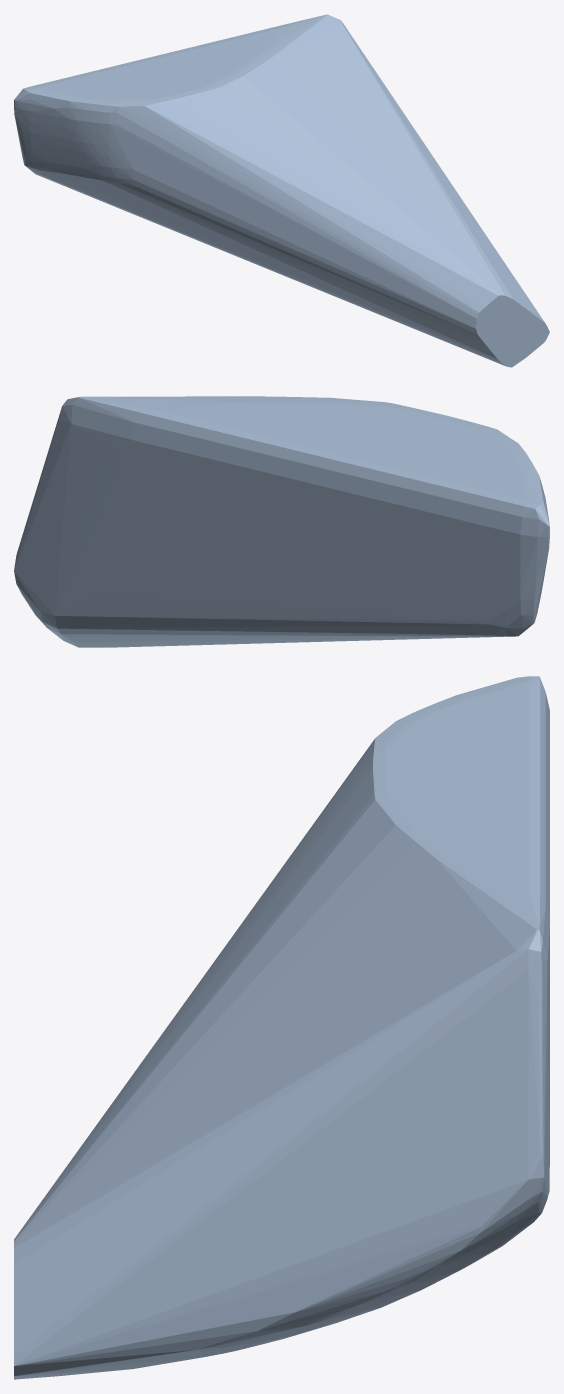
File: torso_link_part_6.obj
3 renders of one model, top to bottom at view 1: azimuth 30°, elevation 25°; view 2: azimuth 150°, elevation 25°; view 3: azimuth 270°, elevation 25°, orthographic. The views are drawn at different scales.
Size of the model in its own units: 0.1161 by 0.0722 by 0.0827.
